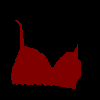reggiseno: (11, 19, 81, 89)
